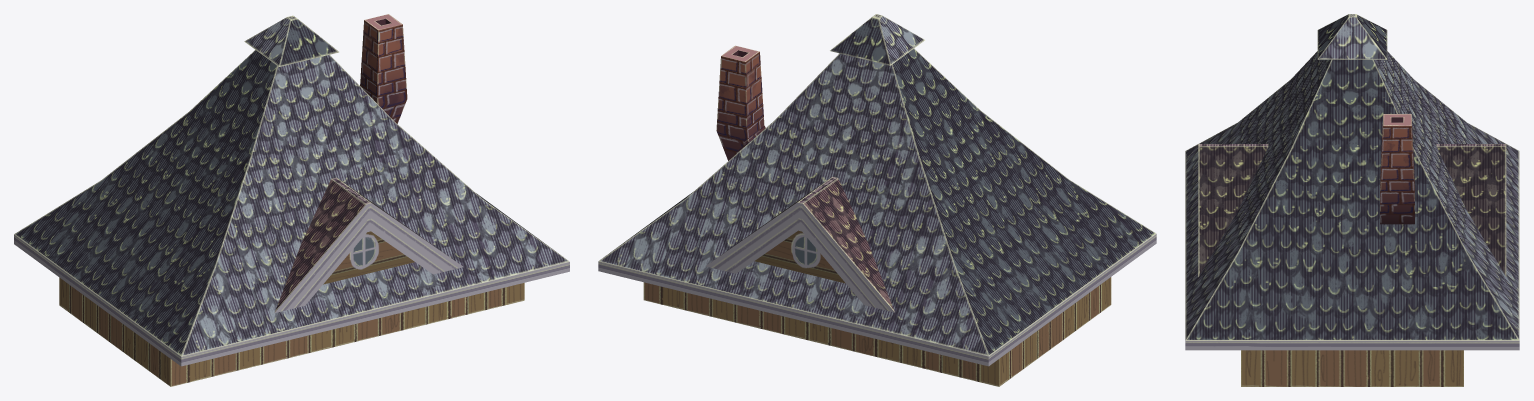
File: roof_mesh.fbx
3 views of the same model, side by side, from view 1: azimuth 30°, elevation 25°; view 2: azimuth 150°, elevation 25°; view 3: azimuth 270°, elevation 25° (orthographic).
Visible parts, largest first — view 1: roof_mesh; view 2: roof_mesh; view 3: roof_mesh.
Boxes of the visible parts, left/top/right/bottom form: roof_mesh: left=14, top=14, right=569, bottom=386; roof_mesh: left=598, top=14, right=1156, bottom=386; roof_mesh: left=1185, top=14, right=1519, bottom=386.
Size of the model in its own units: 6.79 by 4.76 by 5.06.
Materials: 1 (1 with a texture image).
